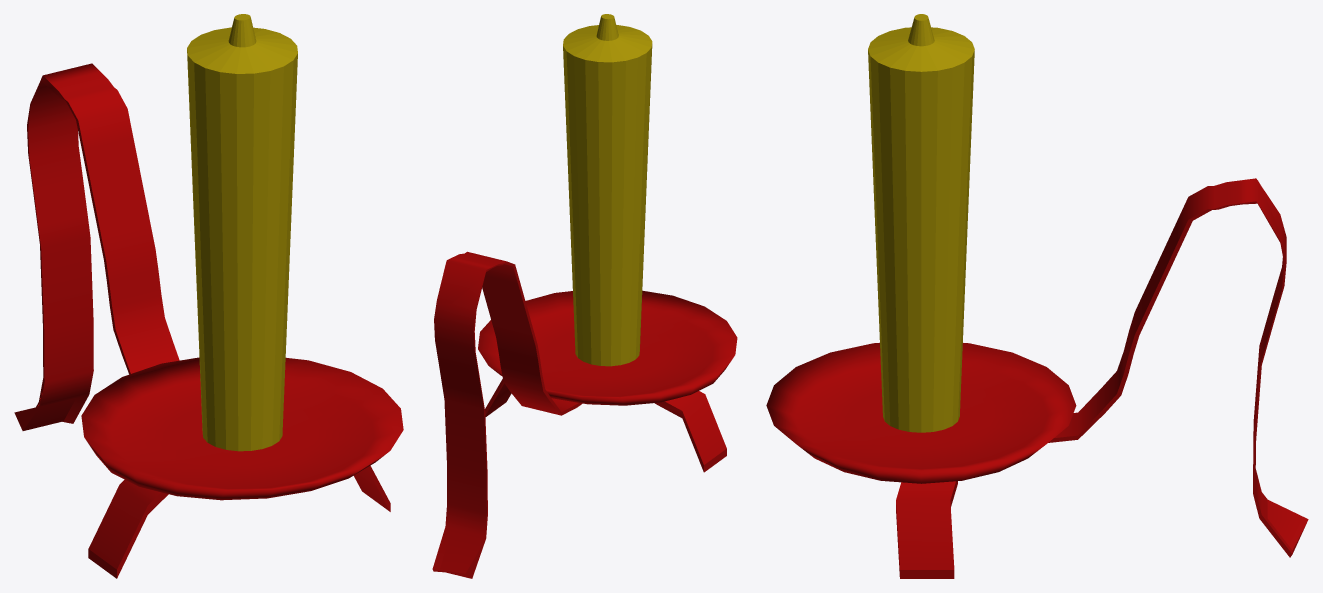
Rendered from rousoku.fbx.
3 views of the same model, side by side, from view 1: azimuth 30°, elevation 25°; view 2: azimuth 150°, elevation 25°; view 3: azimuth 270°, elevation 25° (orthographic). The views are drawn at different scales.
Visible parts, largest first — view 1: pCylinder1, pCube2, pCylinder2, pCube1; view 2: pCylinder1, pCube2, pCylinder2, pCube1; view 3: pCylinder1, pCylinder2, pCube2, pCube1.
Boxes of the visible parts, <box> form: pCylinder1: <box>187,14,297,451</box>; pCube2: <box>14,63,179,430</box>; pCylinder2: <box>81,357,403,500</box>; pCube1: <box>88,465,390,578</box>; pCylinder1: <box>563,14,652,366</box>; pCube2: <box>432,251,582,578</box>; pCylinder2: <box>478,290,737,405</box>; pCube1: <box>485,378,726,472</box>; pCylinder1: <box>868,14,974,432</box>; pCylinder2: <box>766,342,1076,483</box>; pCube2: <box>1048,178,1308,557</box>; pCube1: <box>896,481,957,578</box>.
Size of the model in its own units: 5.69 by 10.72 by 9.95.
